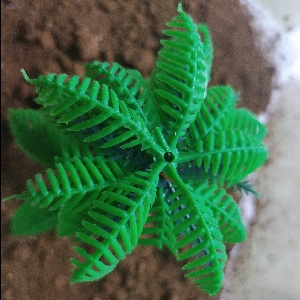plant: (8, 15, 280, 294)
